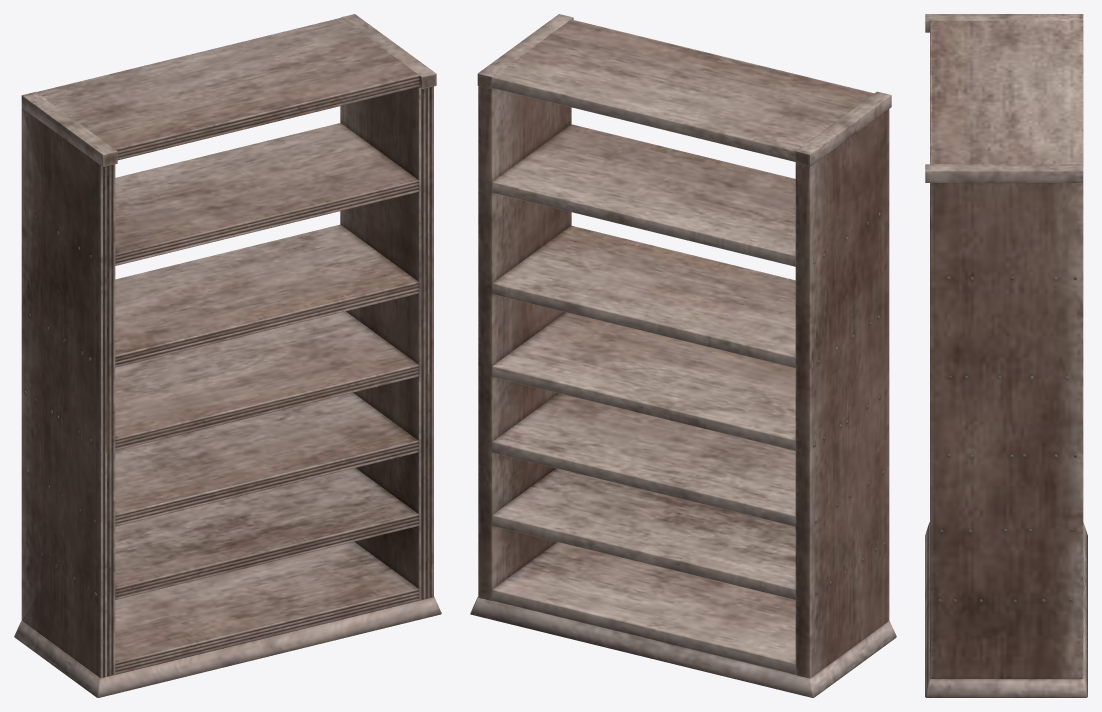
The model's file is wooden_bookshelf_worn.glb.
3 renders of one model, left to right at view 1: azimuth 30°, elevation 25°; view 2: azimuth 150°, elevation 25°; view 3: azimuth 270°, elevation 25°, orthographic. The views are drawn at different scales.
Visible parts, largest first — view 1: wooden_bookshelf_worn; view 2: wooden_bookshelf_worn; view 3: wooden_bookshelf_worn.
Part boxes in pixels (box(x1,y1,x2,y2)): wooden_bookshelf_worn: box(14, 14, 441, 697); wooden_bookshelf_worn: box(470, 14, 896, 697); wooden_bookshelf_worn: box(925, 14, 1087, 697).
Bounding box in the file's own units: 1.37 × 2.06 × 0.5813.
1 material, 1 textured.
